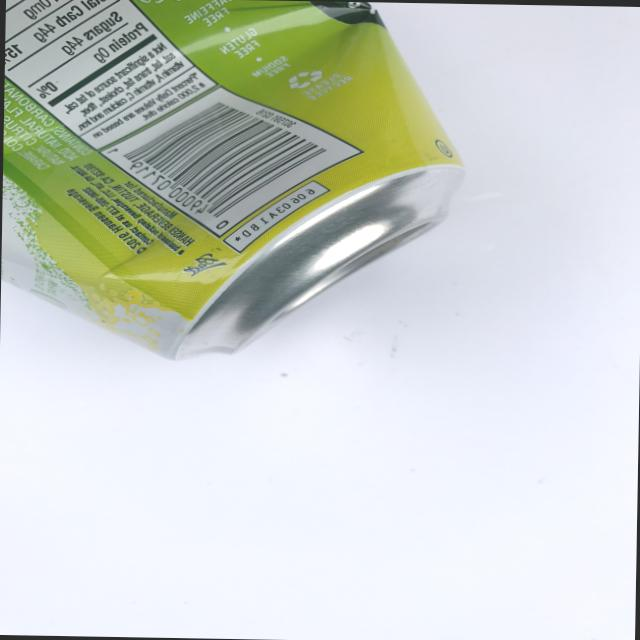Metal: (0, 0, 507, 374)
